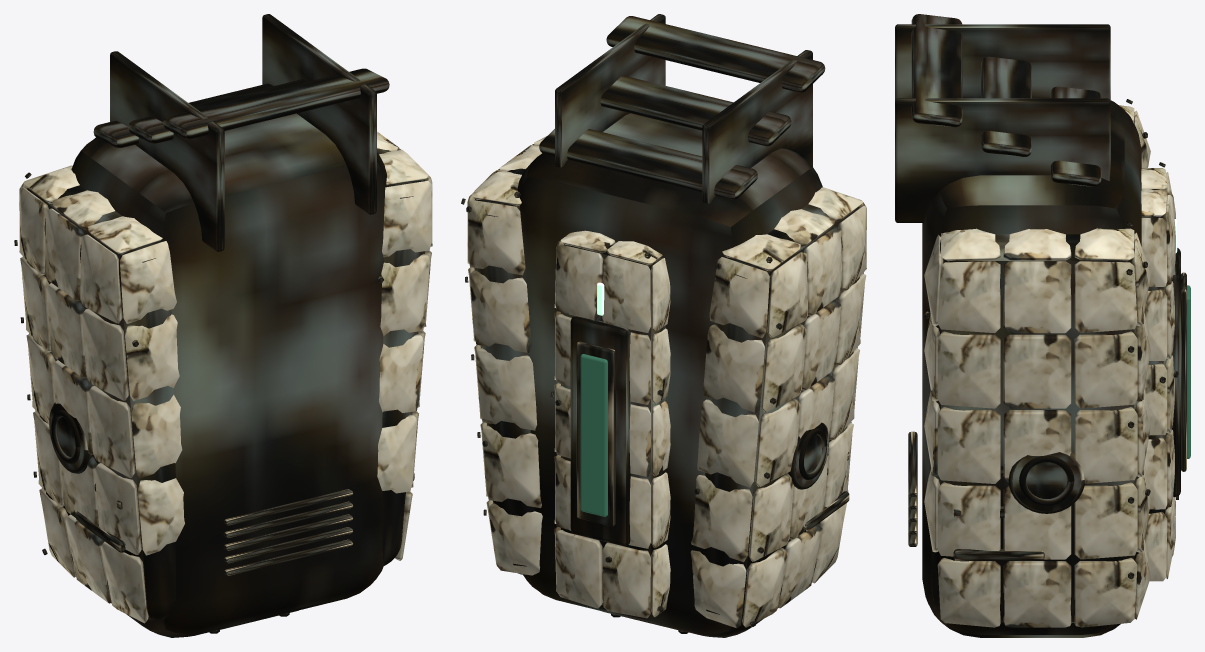
Rendered from body-regulator-astra3-v3.glb.
3 views of the same model, side by side, from view 1: azimuth 30°, elevation 25°; view 2: azimuth 150°, elevation 25°; view 3: azimuth 270°, elevation 25° (orthographic). The views are drawn at different scales.
Visible parts, largest first — view 1: regulator-steel, regulator-detail-ceramic, regulator-detail-metal, regulator-detail-brass; view 2: regulator-detail-ceramic, regulator-detail-metal, regulator-steel, regulator-detail-brass, regulator-detail-glass; view 3: regulator-detail-ceramic, regulator-detail-metal, regulator-steel, regulator-detail-brass, regulator-detail-glass.
Boxes of the visible parts, x1,y1,x2,y2 form: regulator-steel: (71,113,386,637); regulator-detail-ceramic: (19,131,432,623); regulator-detail-metal: (26,14,425,633); regulator-detail-brass: (14,172,414,631); regulator-detail-ceramic: (467,136,866,628); regulator-detail-metal: (474,14,859,633); regulator-steel: (517,113,822,637); regulator-detail-brass: (461,191,849,632); regulator-detail-glass: (580,354,607,516); regulator-detail-ceramic: (924,105,1175,627); regulator-detail-metal: (895,14,1180,622); regulator-steel: (922,100,1141,637); regulator-detail-brass: (908,99,1186,579); regulator-detail-glass: (1187,285,1190,458).
Bounding box in the file's own units: 1.06 × 1.65 × 0.8095.
Materials: 6 (4 with a texture image).
